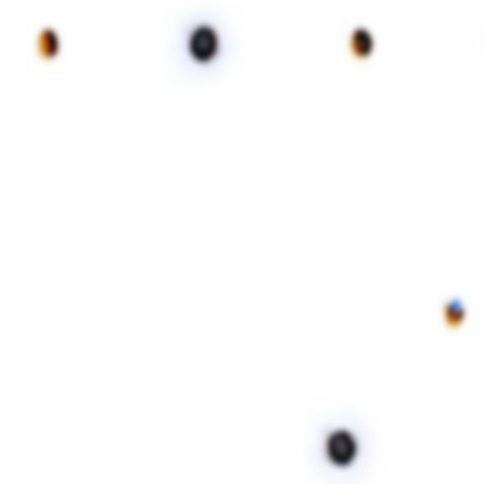cancer: (164, 6, 233, 81), (300, 408, 370, 481)
normal: (422, 279, 478, 337), (22, 15, 79, 70), (333, 14, 391, 64)
